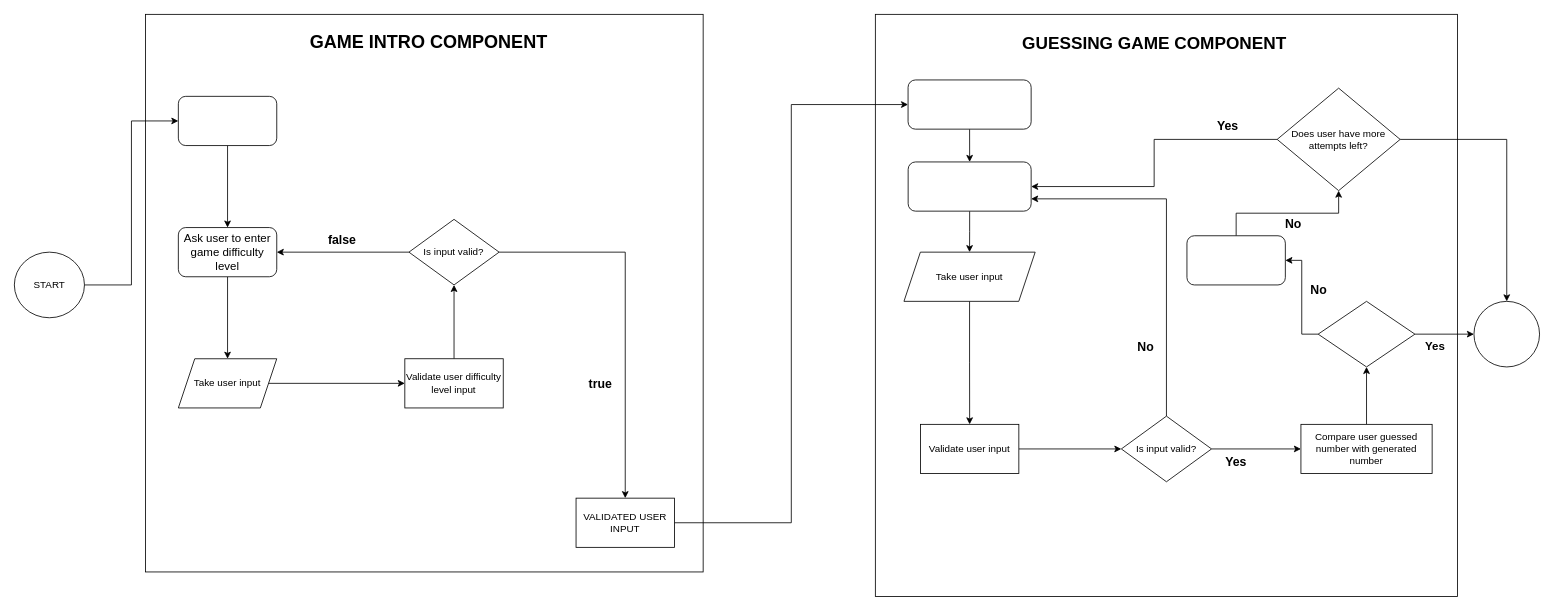
Image size: 1554x611. Some labels were removed from this diagram. Here are the shapes that lost their labels. From the top down, the centre of each, then its label:
the point at 227,121: DISPLAY GAME MENU
the point at 969,104: Setup game based of difficulty level selected
the point at 969,186: Ask user to enter their guess number
the point at 1235,260: Reduce guess attempt
the point at 1366,334: Is guess right?
the point at 1506,334: END
